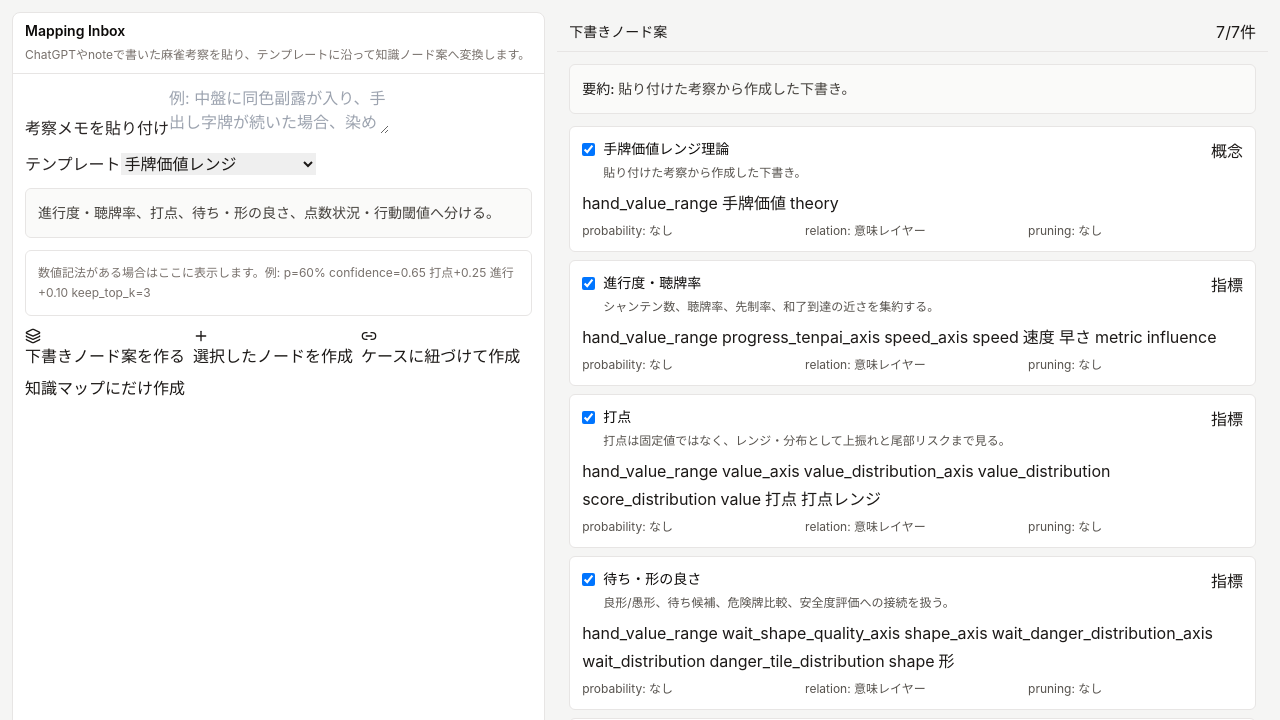
Scenario: workbench components › shows numeric hints in Mapping Inbox
In the text box labelled "考察メモを貼り付け": (279, 110) [169,86,389,134], type "染め本線 p=60% confidence=0.65 打点+0.25 keep_top_k=3"
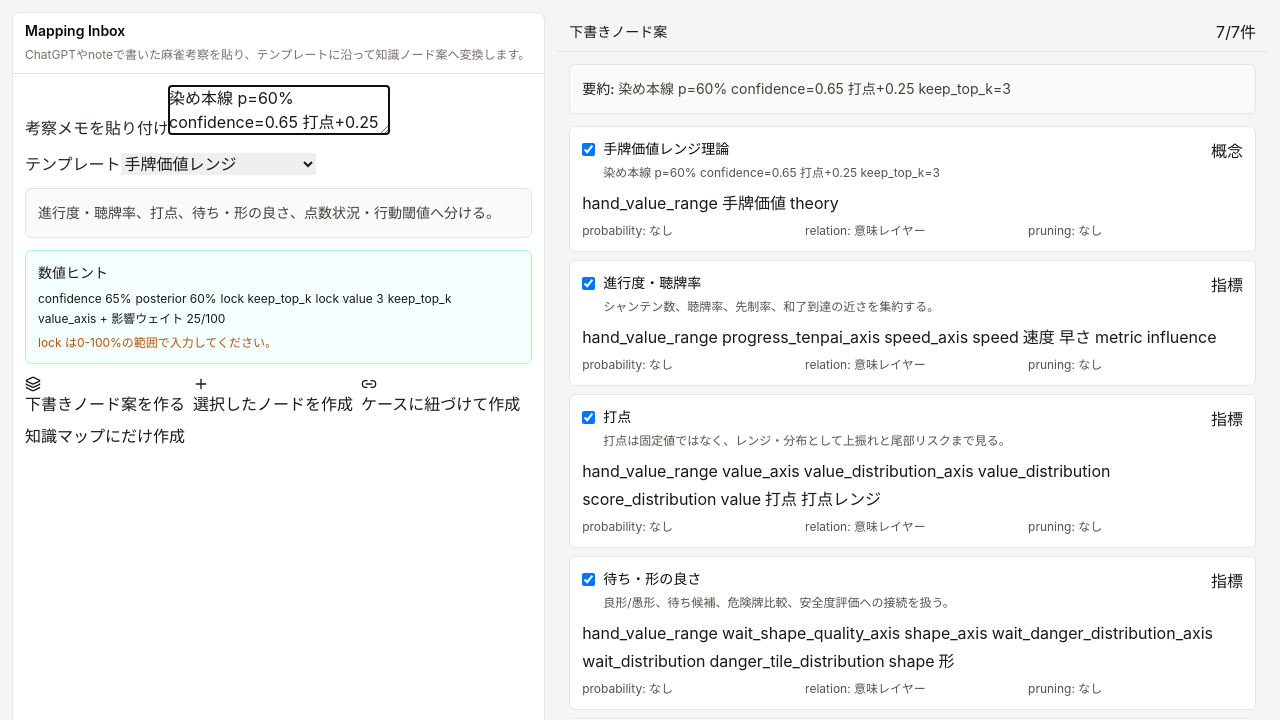
Now the text "数値ヒント" is shown, box [38,264,108,281]
Now the text "posterior 60%" is shown, box [136,291,217,307]
Now the text "keep_top_k" is shown, box [388,291,452,307]
